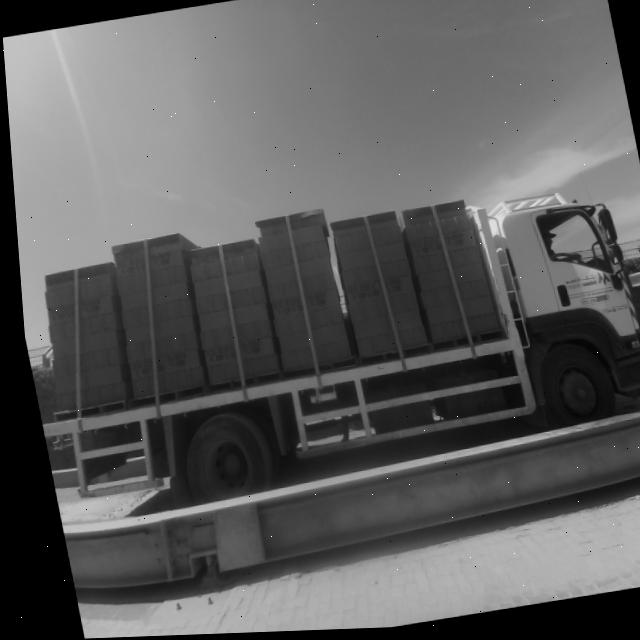bricks: (248, 243, 442, 462), (45, 233, 239, 418), (411, 237, 471, 425), (290, 209, 351, 365), (224, 239, 279, 374), (485, 264, 518, 410)
